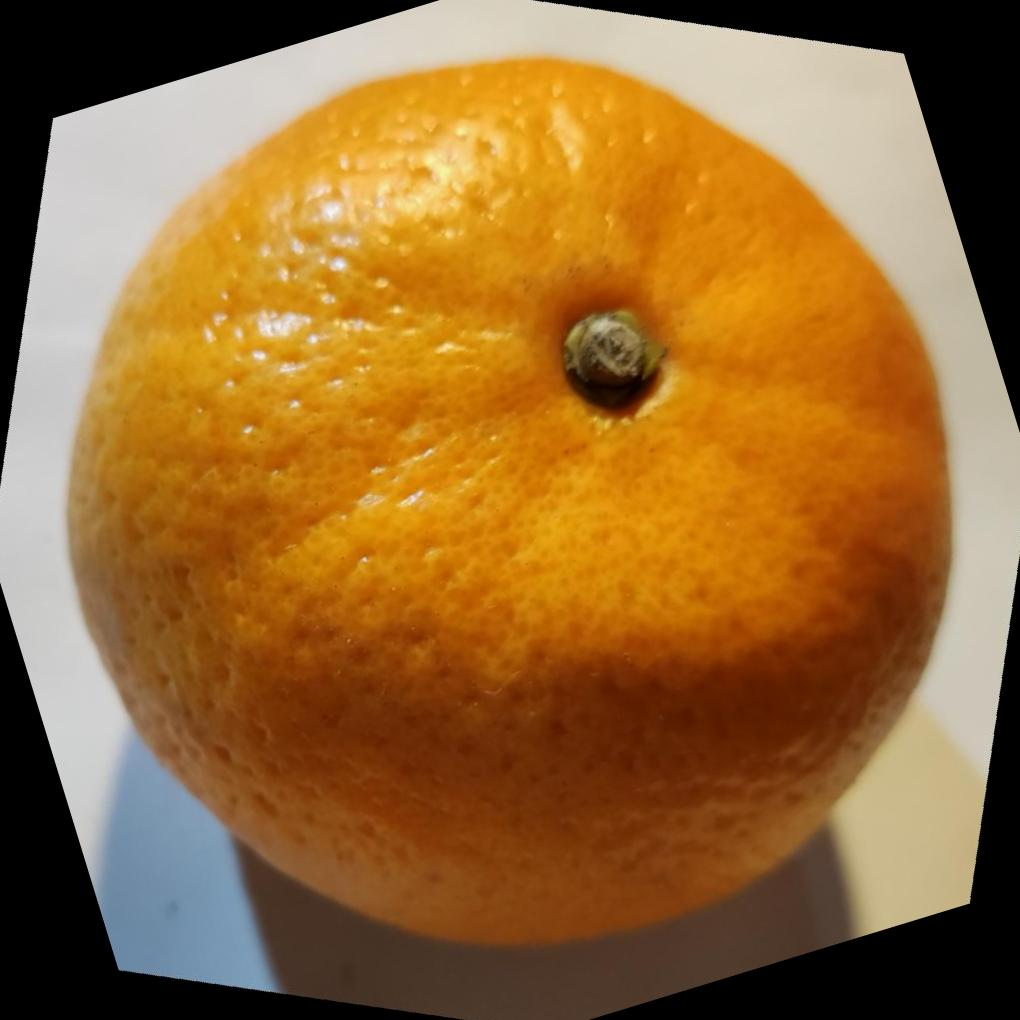FreshGuava: (61, 50, 956, 947)
